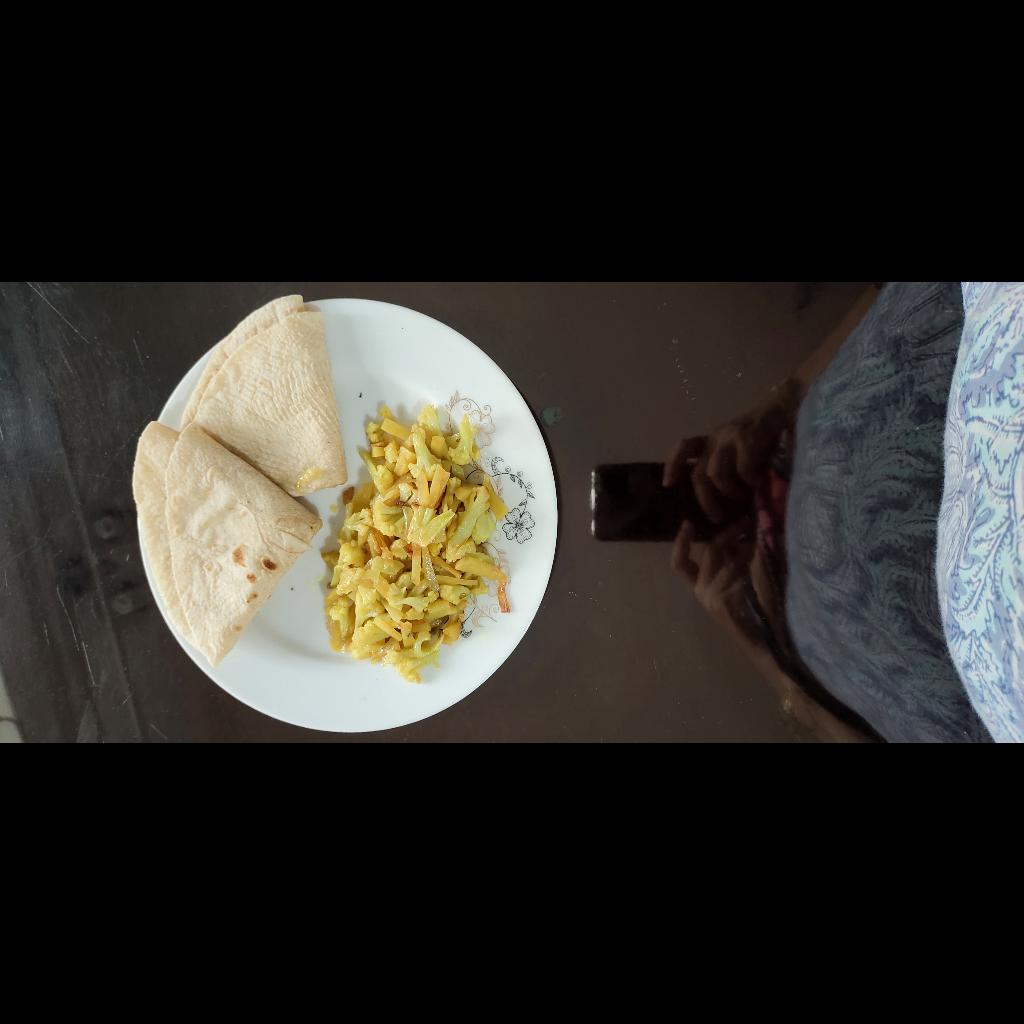ruti: (71, 410, 458, 629)
vegetable: (64, 590, 352, 800)
